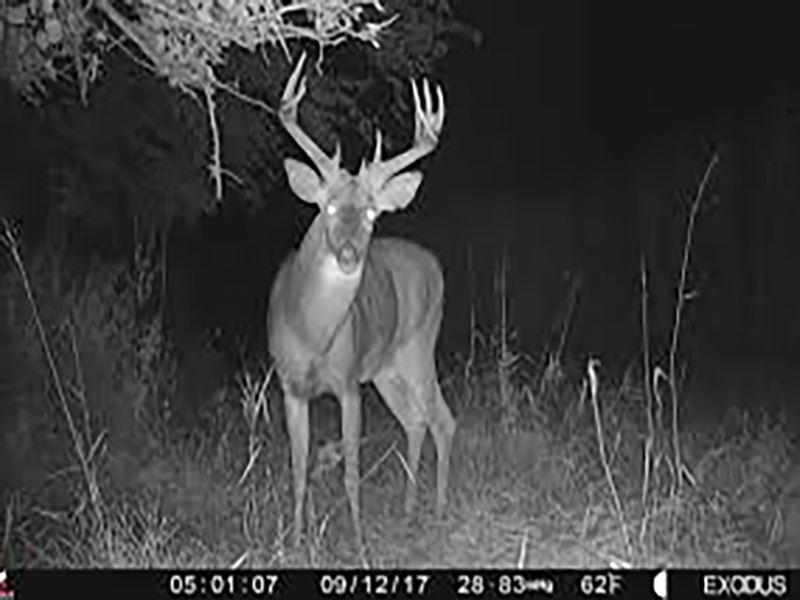cervo: (244, 39, 486, 552)
